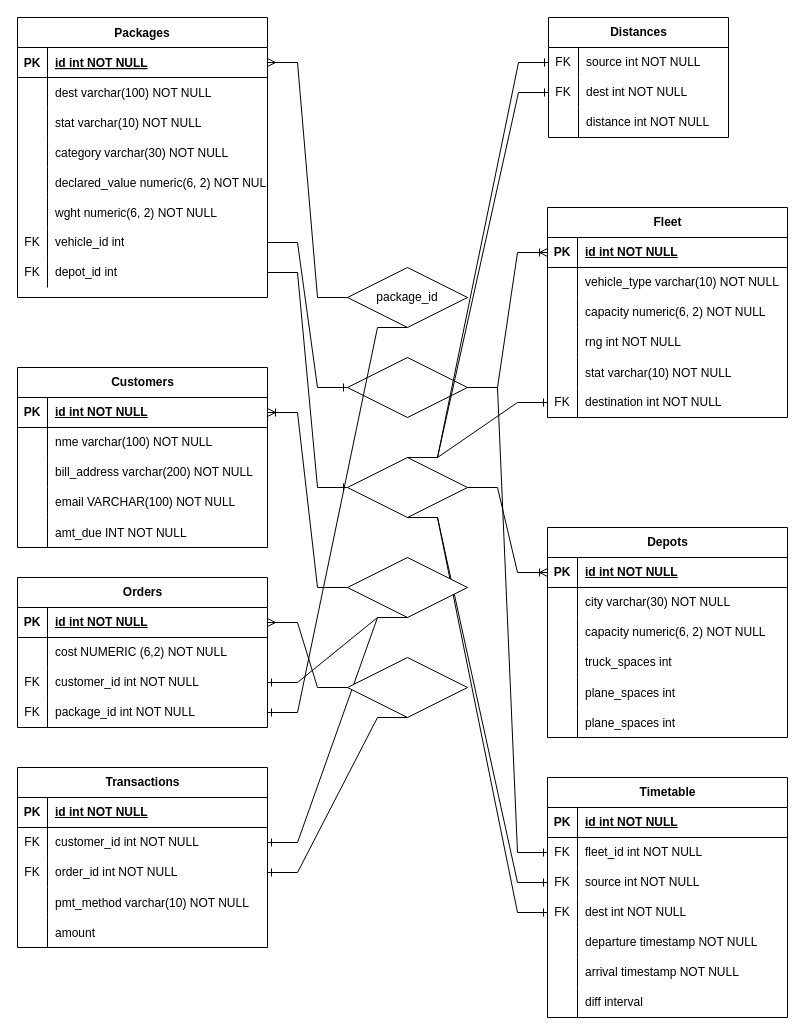
Some shapes in this 805 by 1035 pixel diagram are drawn without their labels. Each missing label, with the centre of its shape:
customer_id: [407,587]
depot_id: [407,487]
order_id: [407,687]
vehicle_id: [407,387]
